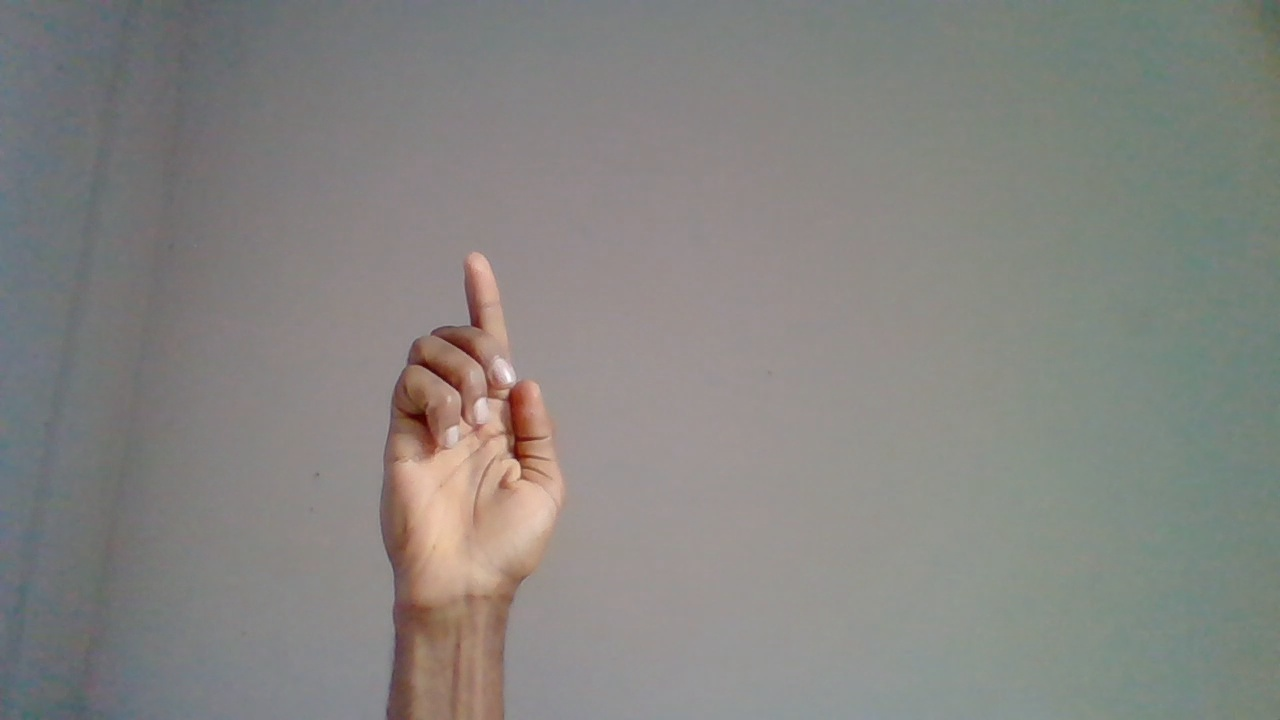qe: (384, 256, 561, 680)
